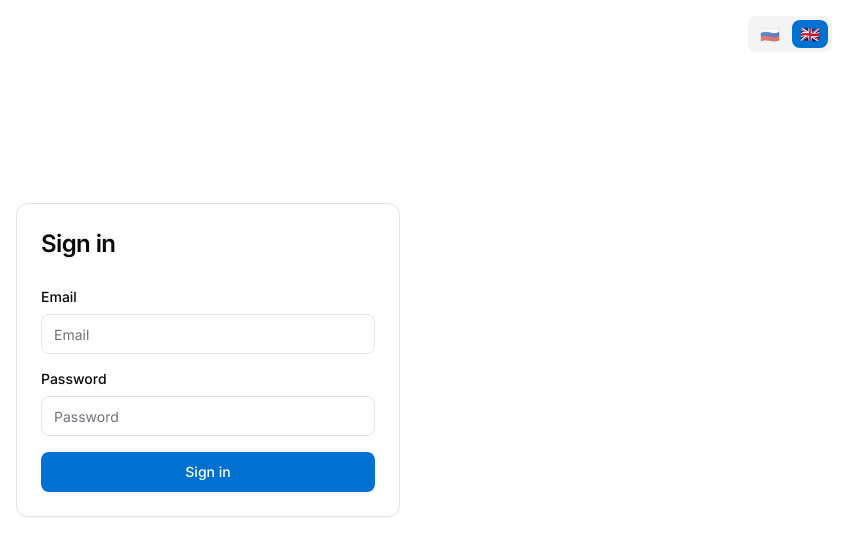
it: LoginPage › shows an error message when sign-in fails
Step 1. Type "owner@example.com" into the field with placeholder "Email" → {"x": 208, "y": 334}, box [41, 314, 375, 354]
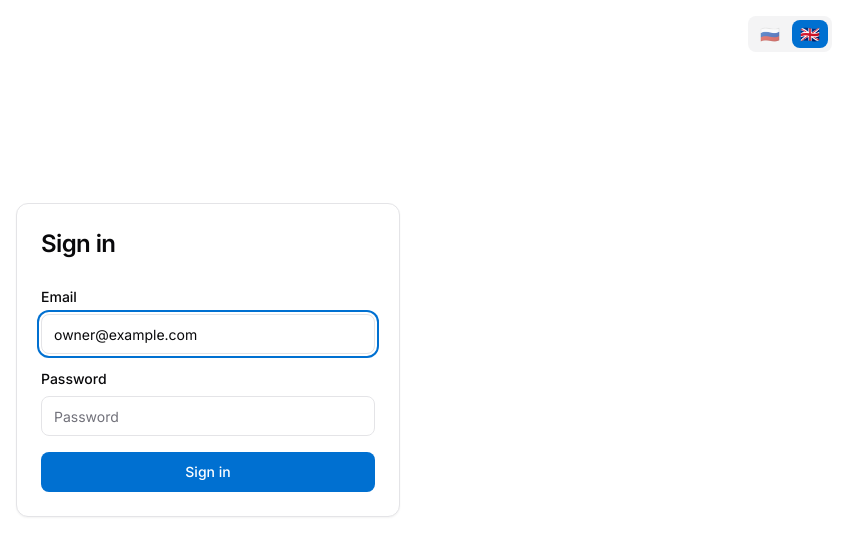
Step 2. Type "wrong-password" into the password field with placeholder "Password" → {"x": 208, "y": 416}, box [41, 396, 375, 436]
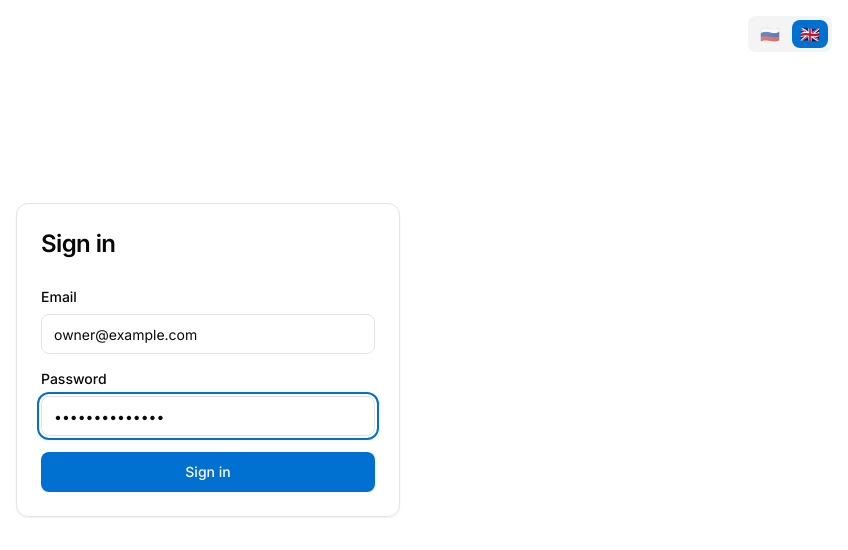
Step 3. Click the button "Sign in" → {"x": 208, "y": 472}, box [41, 452, 375, 492]
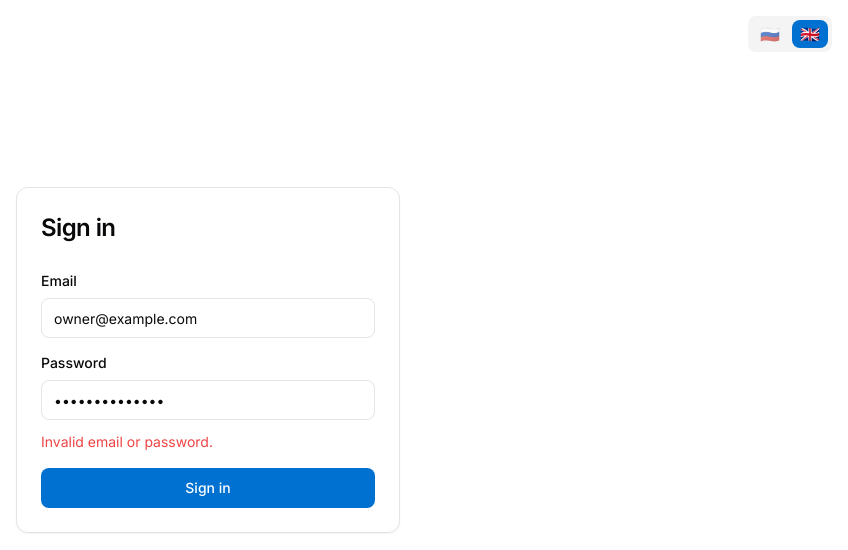
Result: the text "Invalid email or password." is shown at [41, 433, 213, 450]
